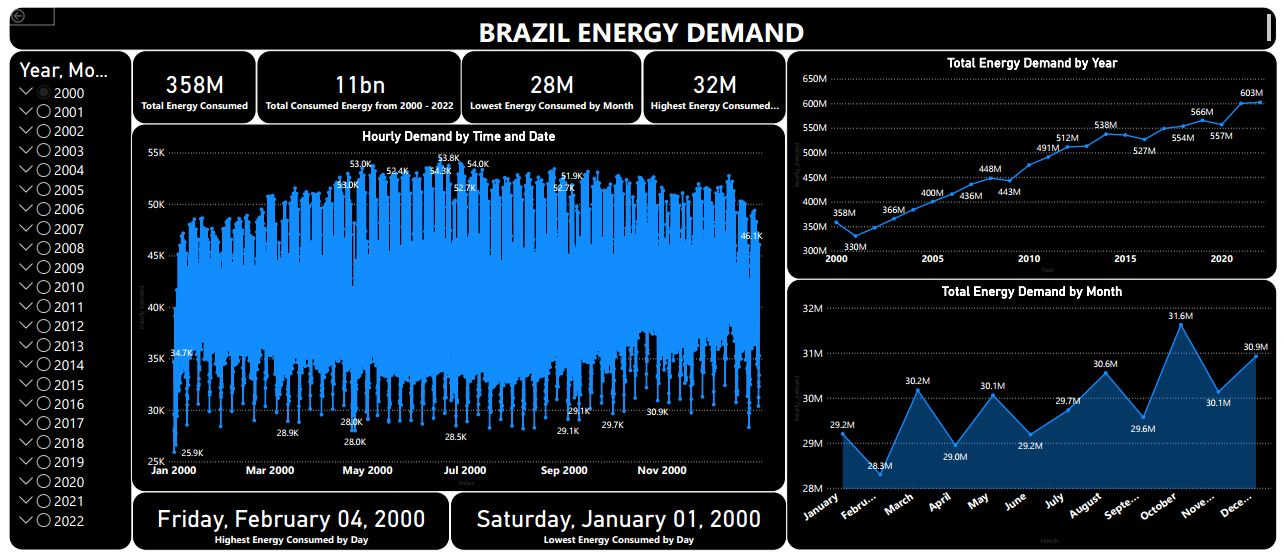

This screenshot's page, from the dashboard's own definition file:
{"tool":"powerbi","page":{"name":"Page 1","canvas":[2800,1200],"ordinal":0},"visuals":[{"type":"slicer","fields":{"Values":["energy_demand_hourly_brazil.index.Variation.Date Hierarchy.Year","energy_demand_hourly_brazil.index.Variation.Date Hierarchy.Month","energy_demand_hourly_brazil.index.Variation.Date Hierarchy.Day"]},"box":[0,96.3,272.4,1103.7],"z":0},{"type":"textbox","box":[0,0,2799.2,96.3],"z":1000},{"type":"lineChart","title":"Total Energy Demand by Year","fields":{"Y":["Sum(energy_demand_hourly_brazil.hourly_demand)"],"Category":["energy_demand_hourly_brazil.index.Variation.Date Hierarchy.Year"]},"box":[1715.7,95.9,1084.3,506.2],"z":2000},{"type":"card","fields":{"Values":["Sum(energy_demand_hourly_brazil.hourly_demand)"]},"box":[271.7,95.9,274.4,162.5],"z":3000},{"type":"card","fields":{"Values":["energy_demand_hourly_brazil.Total Consumed Energy from 2000 - 2022"]},"box":[546.1,95.9,452.9,162.5],"z":4000},{"type":"areaChart","title":"Total Energy Demand by Month","fields":{"Category":["energy_demand_hourly_brazil.index.Variation.Date Hierarchy.Month"],"Y":["Sum(energy_demand_hourly_brazil.hourly_demand)"]},"box":[1716.6,601.2,1082.6,598.8],"z":5000},{"type":"card","fields":{"Values":["Sum(energy_demand_hourly_brazil.hourly_demand)"]},"box":[1398.7,95.9,317,162.5],"z":6000},{"type":"actionButton","box":[0,0,100,40],"z":7000},{"type":"card","fields":{"Values":["Sum(energy_demand_hourly_brazil.hourly_demand)"]},"box":[999,95.9,399.6,162.5],"z":8000},{"type":"card","fields":{"Values":["Min(energy_demand_hourly_brazil.Day)"]},"box":[272.7,1070.1,701.3,129.9],"z":9000},{"type":"card","fields":{"Values":["Min(energy_demand_hourly_brazil.Day)"]},"box":[974,1070.1,742.9,129.9],"z":10000},{"type":"lineChart","title":"Hourly Demand by Time and Date","fields":{"Y":["Sum(energy_demand_hourly_brazil.hourly_demand)"],"Category":["energy_demand_hourly_brazil.index"]},"box":[271,258.9,1445.2,812.9],"z":11000}]}

Visuals, with their boxes in screenshot pixels (x1, y1, x2, y2), scaled from the page's 2800x1200 canvas onto the 1284x557 screenshot:
slicer - energy_demand_hourly_brazil.index.Variation.Date Hierarchy.Year x energy_demand_hourly_brazil.index.Variation.Date Hierarchy.Month: 0 45 125 556
textbox: 0 0 1283 45
"Total Energy Demand by Year" lineChart: 787 45 1283 279
card - Sum(energy_demand_hourly_brazil.hourly_demand): 125 45 250 120
card - energy_demand_hourly_brazil.Total Consumed Energy from 2000 - 2022: 250 45 458 120
"Total Energy Demand by Month" areaChart: 787 279 1283 556
card - Sum(energy_demand_hourly_brazil.hourly_demand): 641 45 787 120
actionButton: 0 0 46 19
card - Sum(energy_demand_hourly_brazil.hourly_demand): 458 45 641 120
card - Min(energy_demand_hourly_brazil.Day): 125 497 447 556
card - Min(energy_demand_hourly_brazil.Day): 447 497 787 556
"Hourly Demand by Time and Date" lineChart: 124 120 787 497
